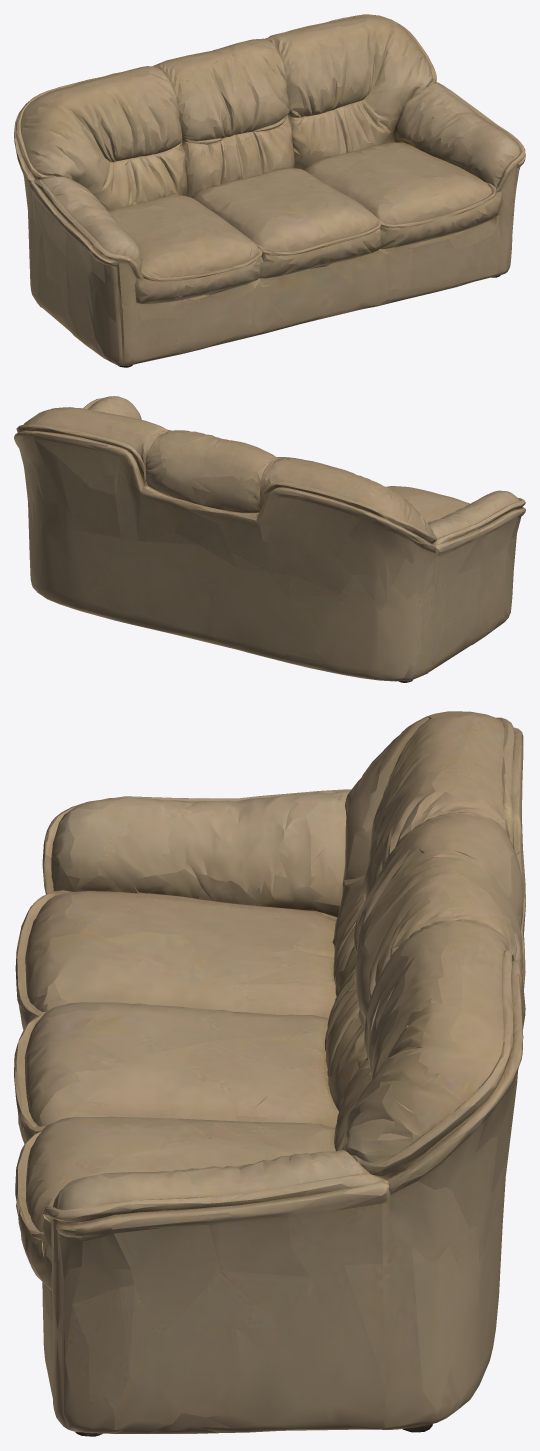
Rendered from w3hsofa3.glb.
3 views of the same model, one above another, from view 1: azimuth 30°, elevation 25°; view 2: azimuth 150°, elevation 25°; view 3: azimuth 270°, elevation 25° (orthographic). The views are drawn at different scales.
Visible parts, largest first — view 1: output_unwrapped; view 2: output_unwrapped; view 3: output_unwrapped.
Part boxes in pixels (x1,y1,x2,y2): output_unwrapped: (14, 14, 525, 367); output_unwrapped: (14, 396, 525, 682); output_unwrapped: (14, 711, 525, 1436).
Size of the model in its own units: 2.1 by 0.9388 by 1.09.
1 material, 1 textured.
